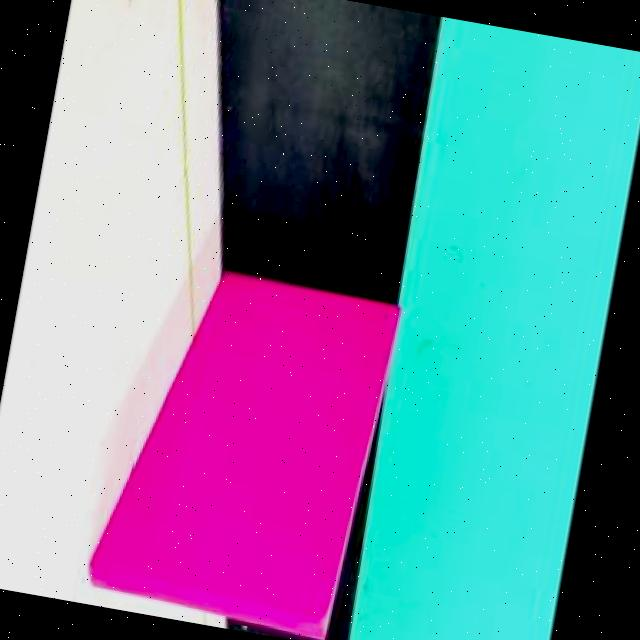xparking: (86, 270, 364, 620)
